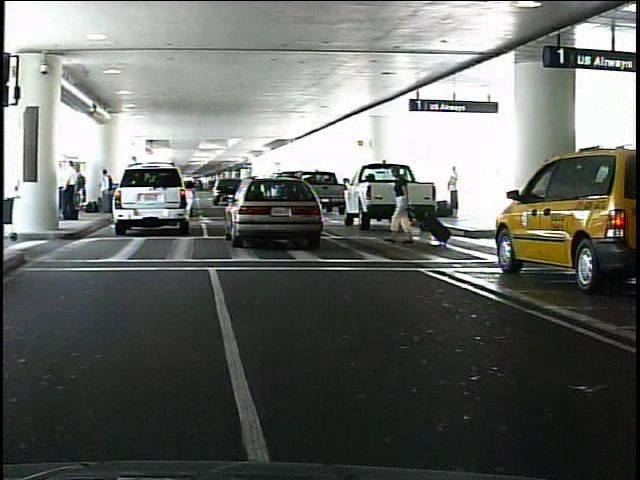person: (393, 163, 418, 247), (68, 160, 83, 222), (104, 166, 119, 221), (451, 161, 463, 214)
